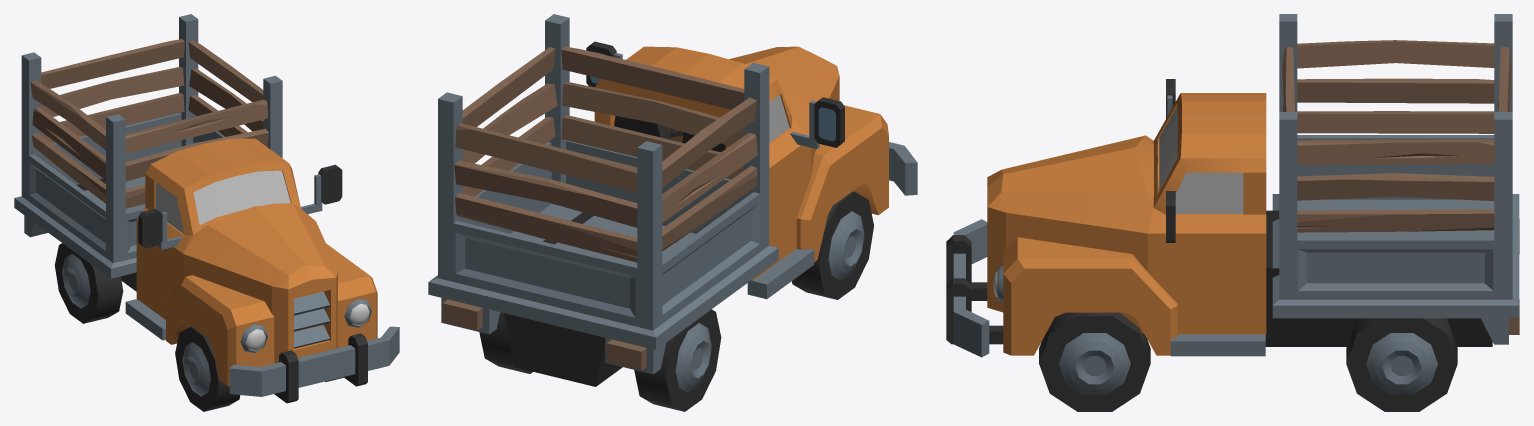
Rendered from Truck.fbx.
The picture shows the model from 3 angles, left to right: view 1: azimuth 30°, elevation 25°; view 2: azimuth 150°, elevation 25°; view 3: azimuth 270°, elevation 25°; orthographic projection. The views are drawn at different scales.
Visible parts, largest first — view 1: Truck; view 2: Truck; view 3: Truck.
Part boxes in pixels (box(x1,y1,x2,y2)): Truck: box(14, 14, 399, 411); Truck: box(428, 14, 917, 411); Truck: box(946, 14, 1519, 411).
Bounding box in the file's own units: 81.74 × 91.6 × 159.
